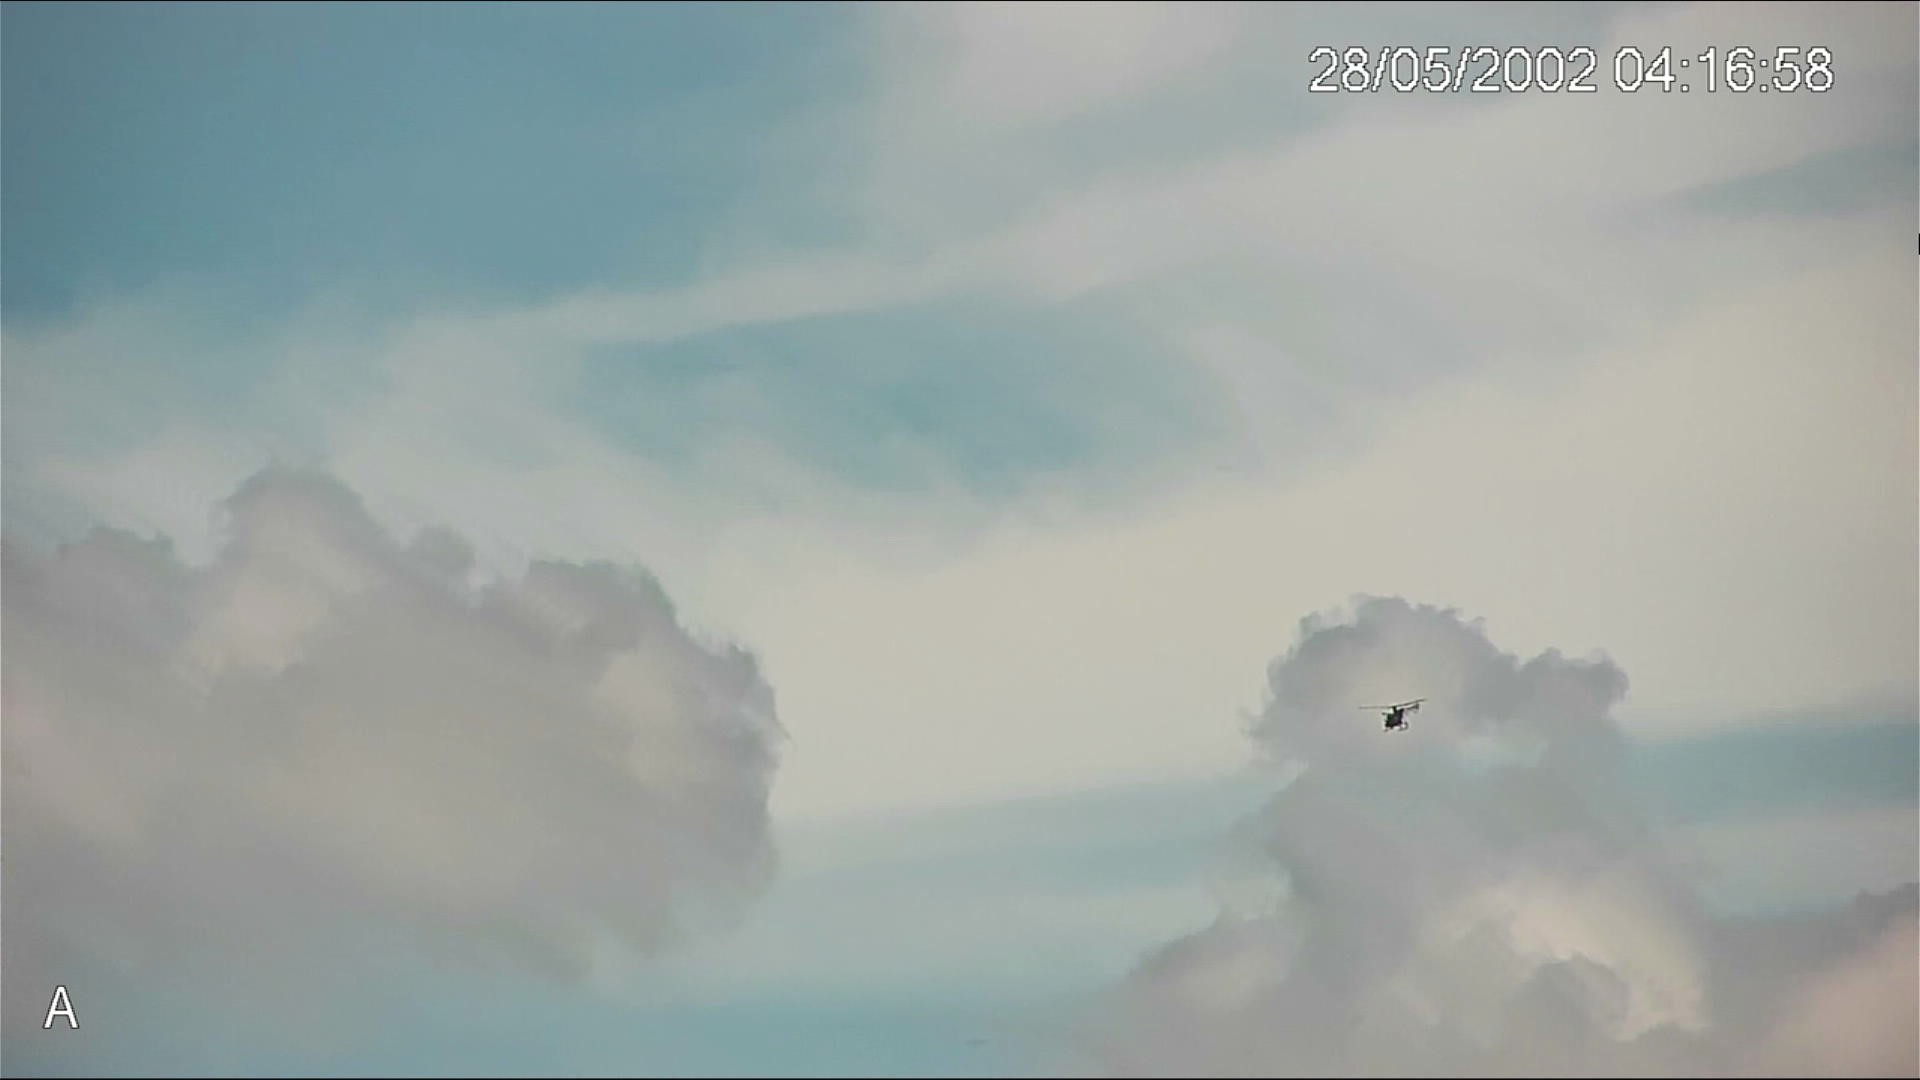SU_30: (1375, 700, 1425, 733)
